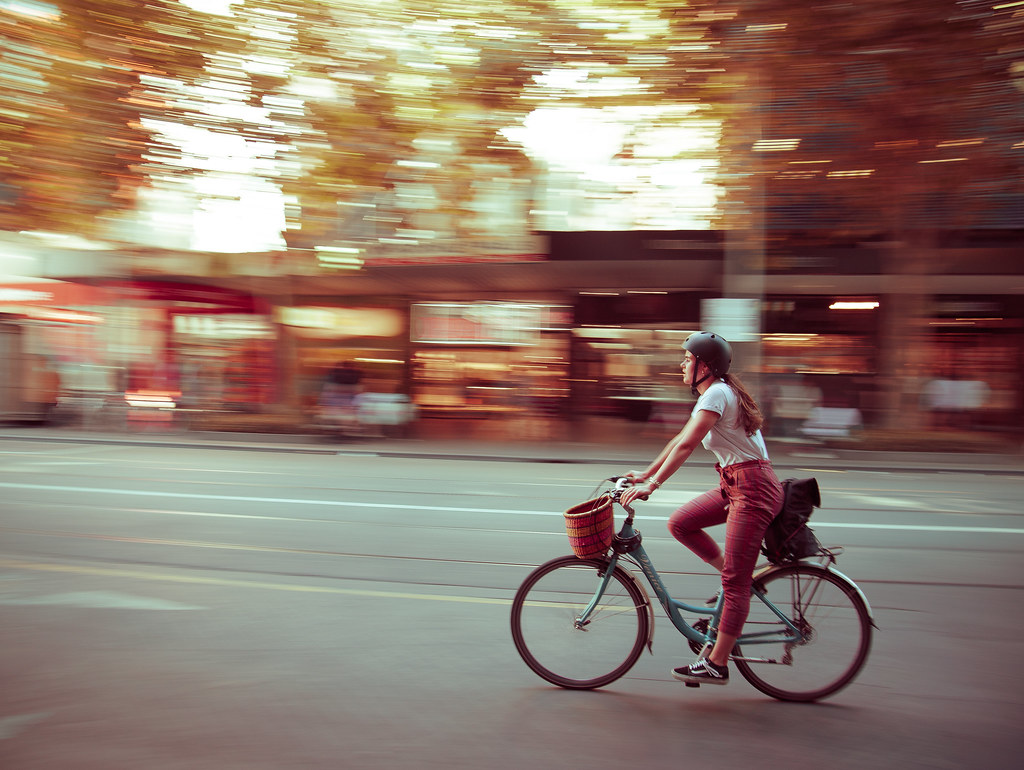commuter: (508, 328, 878, 711)
